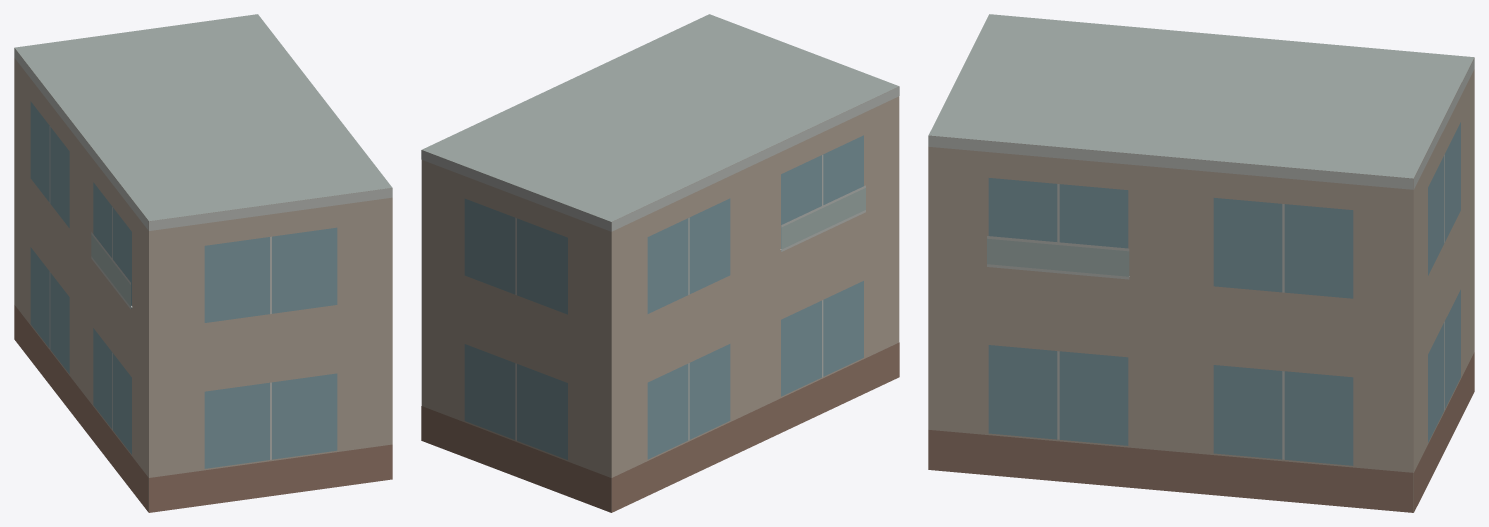
The model's file is survey-upis-33005602.glb.
The picture shows the model from 3 angles, left to right: view 1: azimuth 30°, elevation 25°; view 2: azimuth 150°, elevation 25°; view 3: azimuth 270°, elevation 25°; orthographic projection. The views are drawn at different scales.
Visible parts, largest first — view 1: survey-upis-33005602.tmp; view 2: survey-upis-33005602.tmp; view 3: survey-upis-33005602.tmp.
Part boxes in pixels (x1=…): survey-upis-33005602.tmp: x1=14, y1=14, x2=392, y2=512; survey-upis-33005602.tmp: x1=421, y1=14, x2=899, y2=512; survey-upis-33005602.tmp: x1=928, y1=14, x2=1474, y2=512.
Size of the model in its own units: 7.61 by 7.2 by 10.67.
